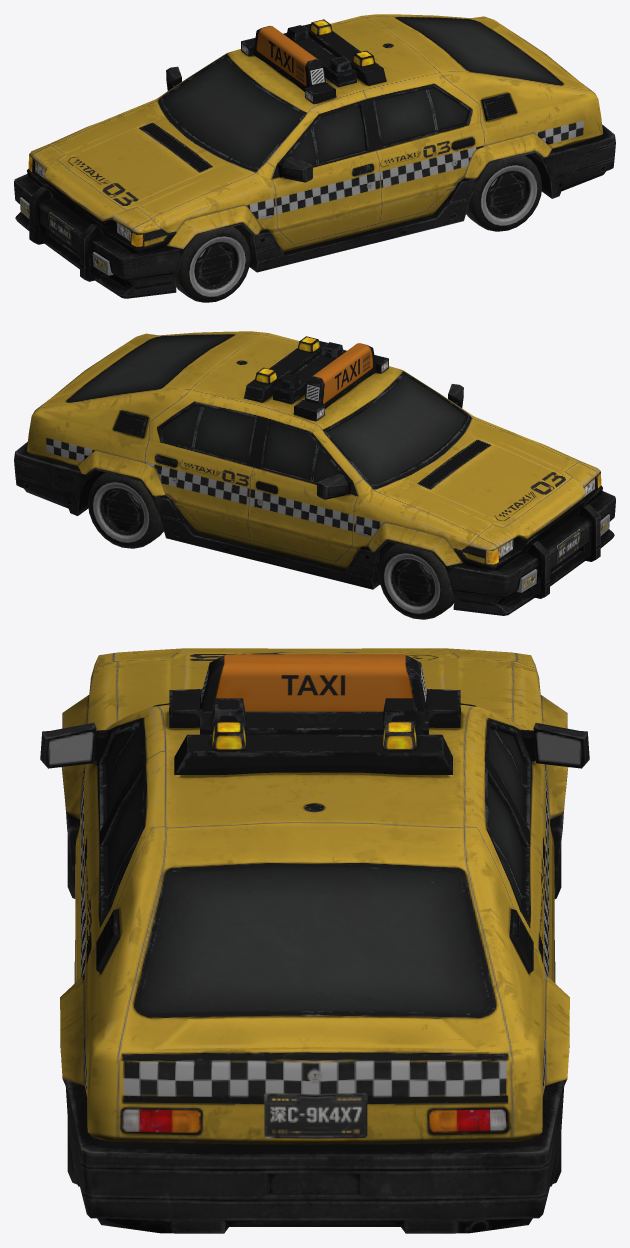
Rendered from CP_Taxi.fbx.
3 renders of one model, top to bottom at view 1: azimuth 30°, elevation 25°; view 2: azimuth 150°, elevation 25°; view 3: azimuth 270°, elevation 25°, orthographic. The views are drawn at different scales.
Visible parts, largest first — view 1: CP_Taxi_LOD0, CP_Taxi_Wheel_01_LOD0, CP_Taxi_Wheel_02_LOD0; view 2: CP_Taxi_LOD0, CP_Taxi_Wheel_04_LOD0, CP_Taxi_Wheel_03_LOD0; view 3: CP_Taxi_LOD0.
Part boxes in pixels (bbox=[...]): CP_Taxi_LOD0: bbox=[14, 14, 615, 298]; CP_Taxi_Wheel_01_LOD0: bbox=[175, 226, 250, 302]; CP_Taxi_Wheel_02_LOD0: bbox=[466, 155, 542, 231]; CP_Taxi_LOD0: bbox=[14, 331, 615, 615]; CP_Taxi_Wheel_04_LOD0: bbox=[379, 543, 454, 619]; CP_Taxi_Wheel_03_LOD0: bbox=[88, 472, 163, 548]; CP_Taxi_LOD0: bbox=[40, 648, 589, 1233].
Size of what is drawn, in the model's own units: 501 by 174 by 236.
